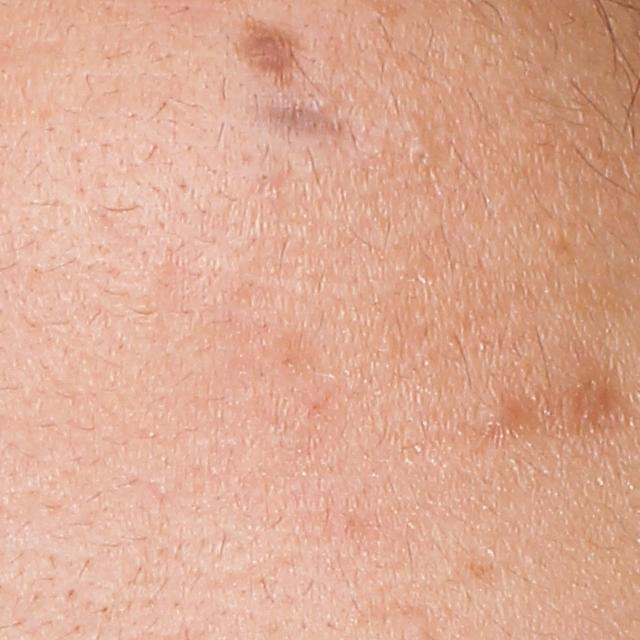atrophic_scar: (243, 96, 355, 136)
comedo: (473, 400, 523, 437), (403, 140, 439, 171)
melasma: (237, 21, 304, 70)
